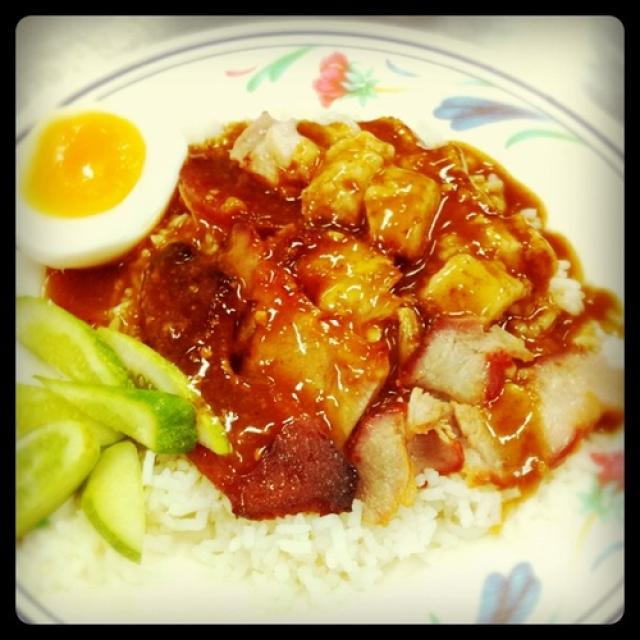猪肉菜式: (29, 55, 621, 611)
